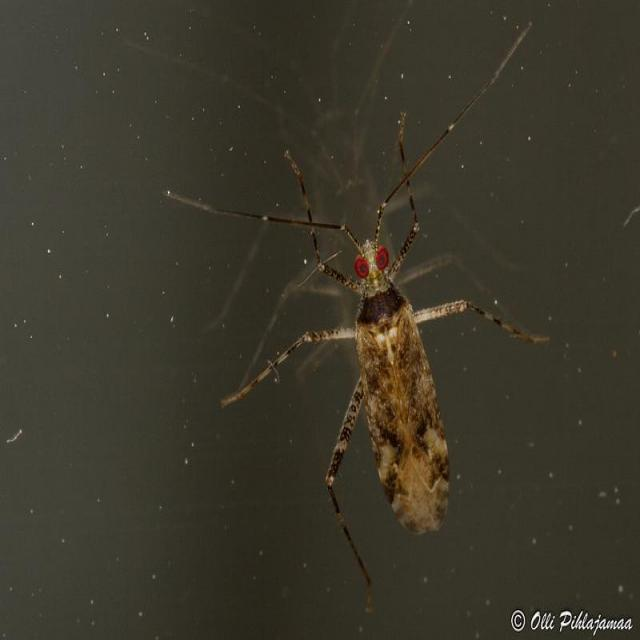Miridae-Adult-: (181, 23, 554, 543)
